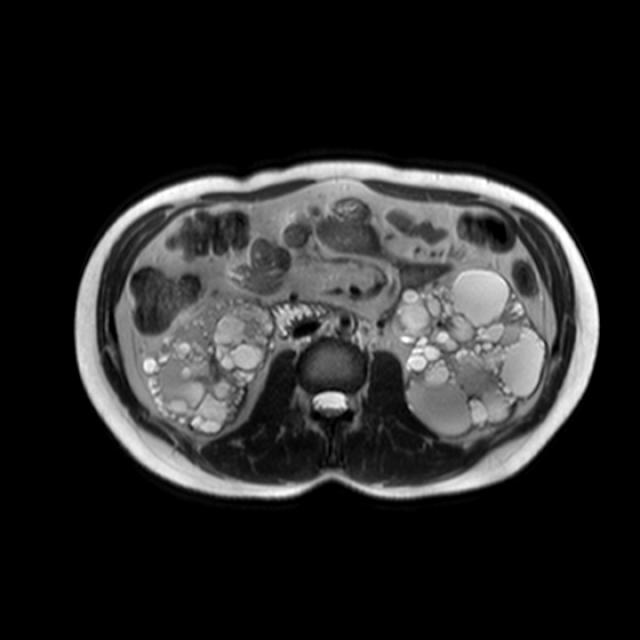sag: (144, 295, 278, 434)
sol: (390, 266, 549, 441)
